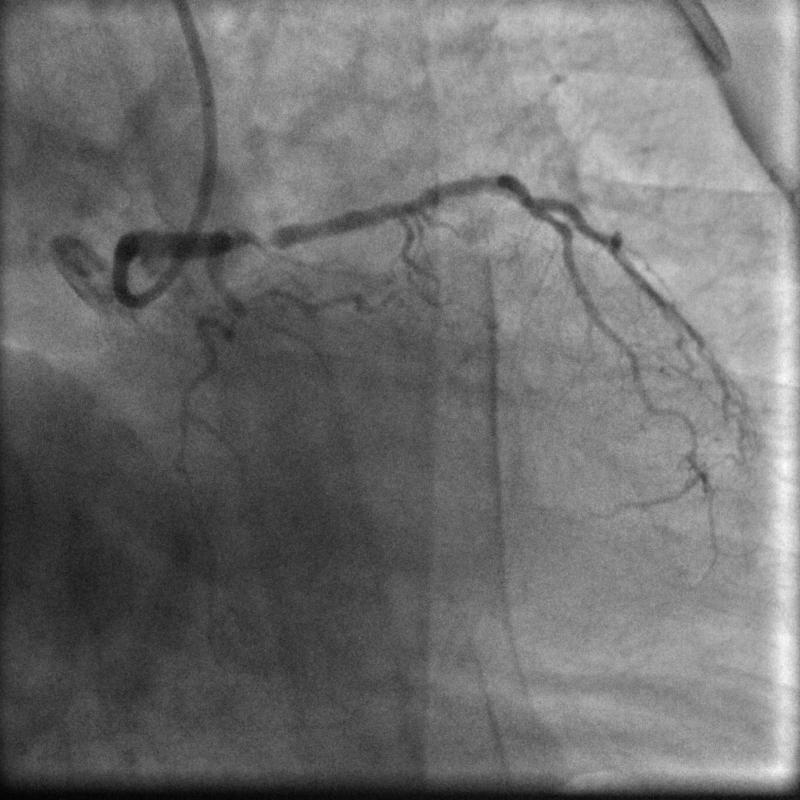Stenosis: (228, 220, 281, 258)
